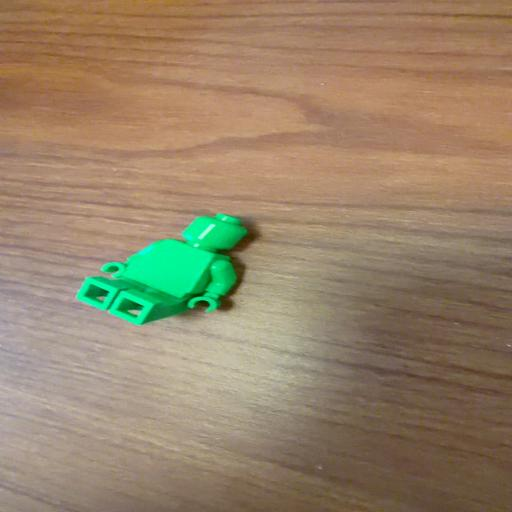UnoQ-minifig-detector: (77, 215, 246, 324)
